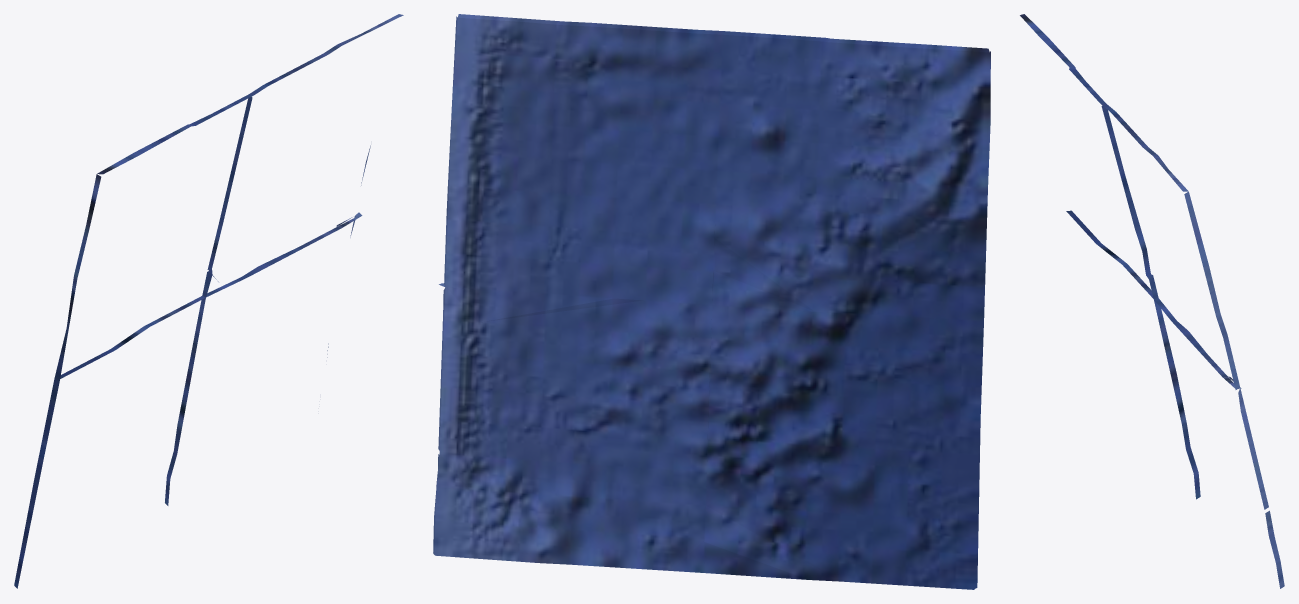
3 renders of one model, left to right at view 1: azimuth 30°, elevation 25°; view 2: azimuth 150°, elevation 25°; view 3: azimuth 270°, elevation 25°, orthographic. The views are drawn at different scales.
Size of the model in its own units: 311608 by 308234 by 179269.
Materials: 1 (1 with a texture image).
